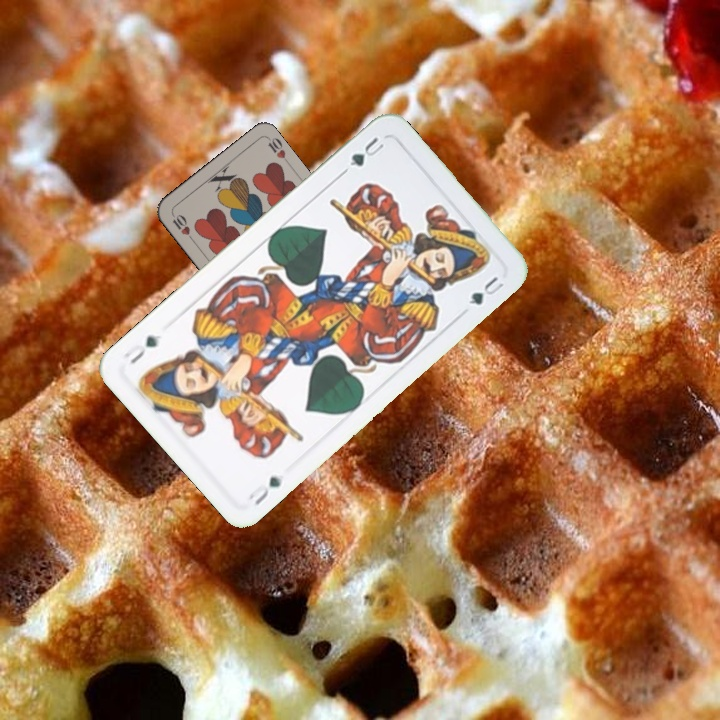GU: (345, 132, 387, 169), (243, 472, 285, 508)
H10: (168, 210, 197, 244)
